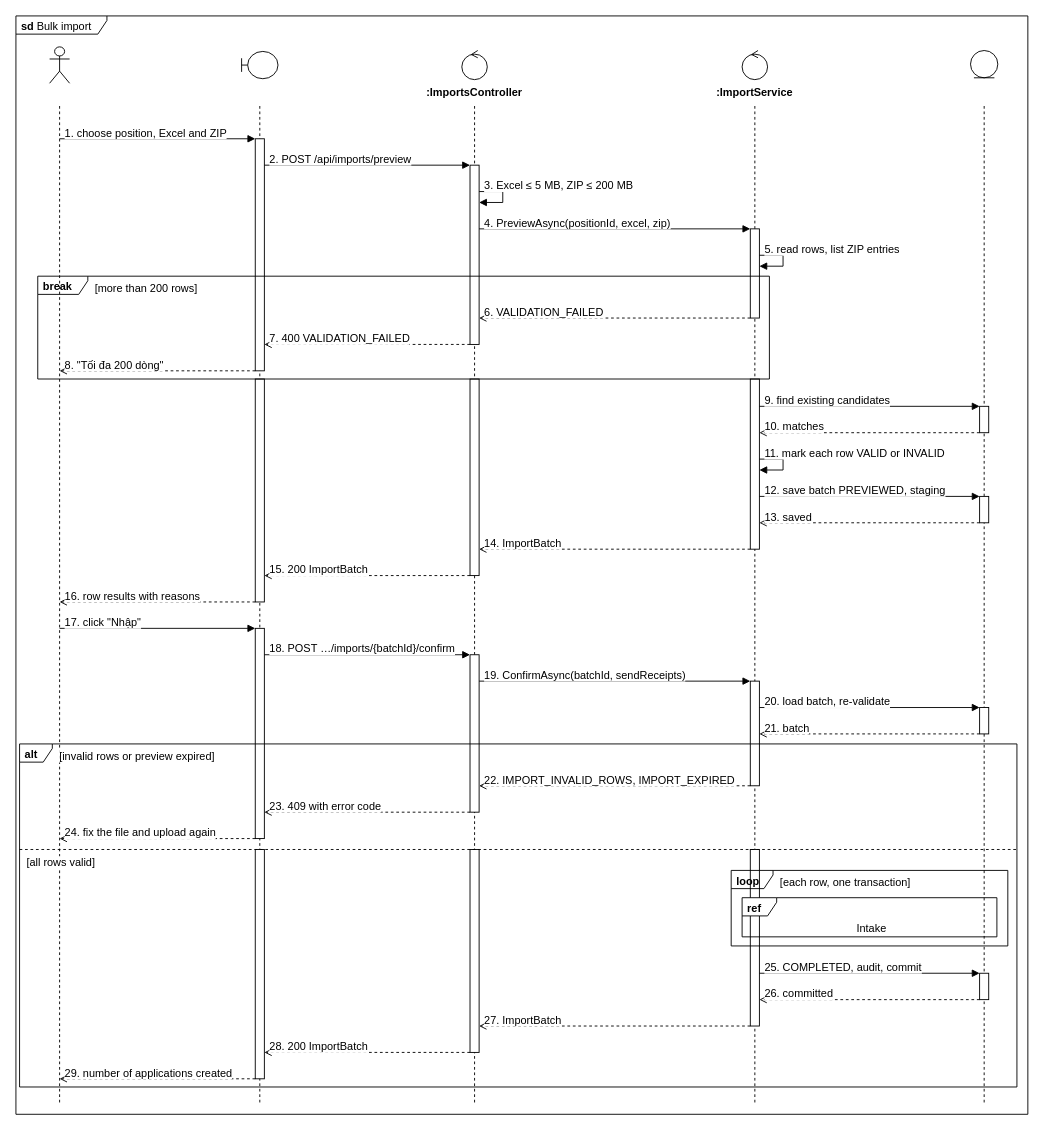
The diagram is 1044 pixels wide and 1130 high, and some of its shapes have lost their labels. The centre of each missing label's shape, as x and y in pixels:
":Bulk import wizard" belongs at point 259,65.
":Database" belongs at point 984,64.
"Recruiter" belongs at point 59,64.
